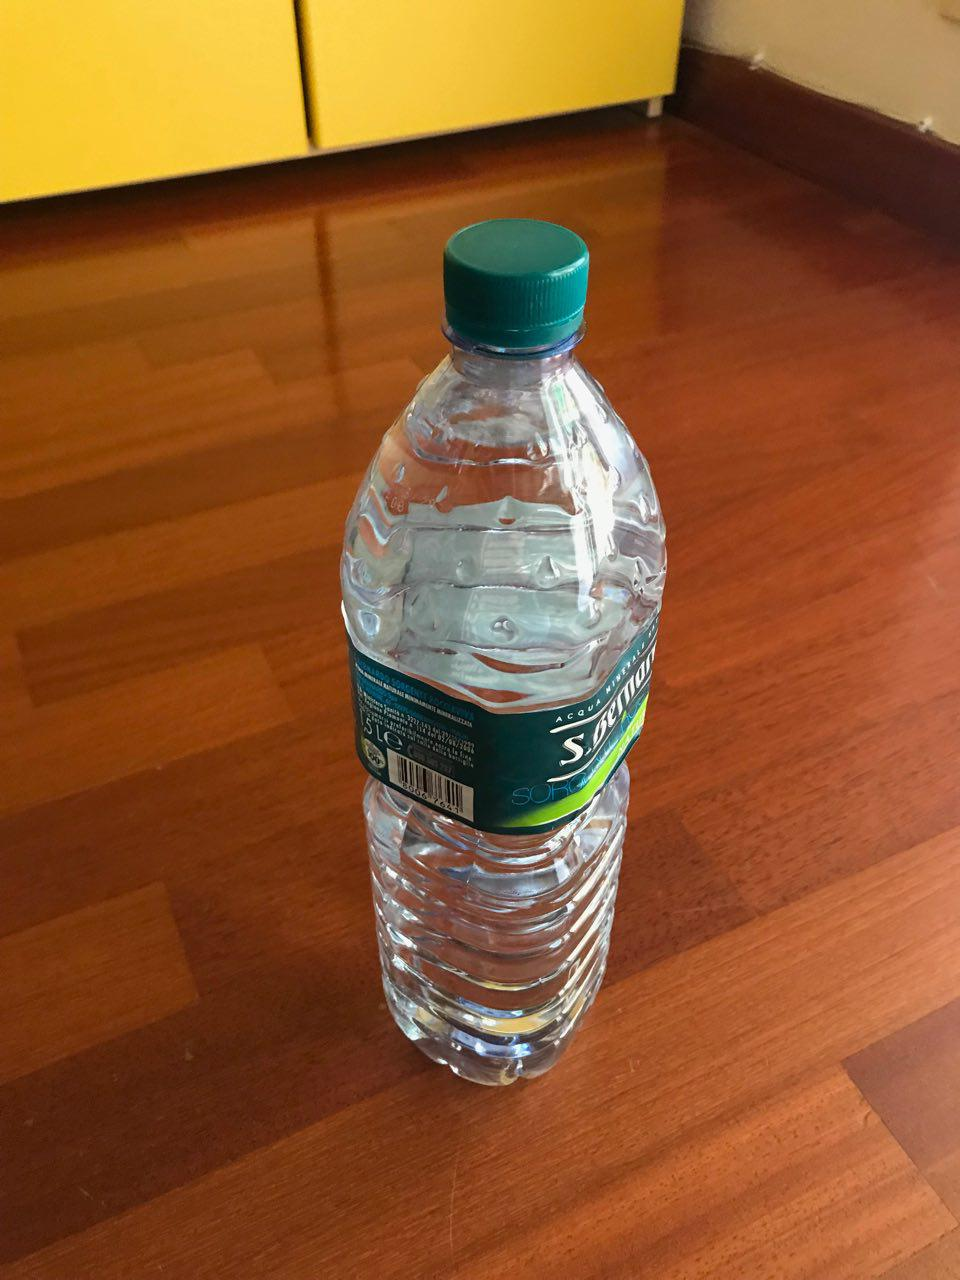san_bernardo: (337, 216, 669, 1089)
